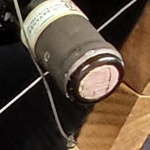bottle: (52, 38, 138, 121)
